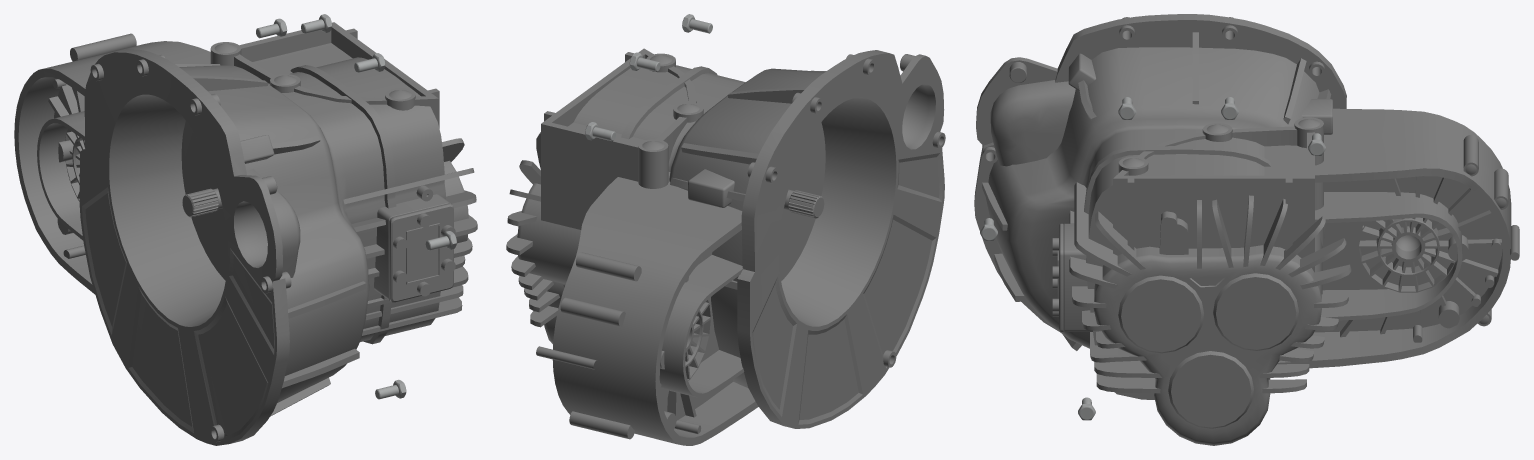
The model's file is fwdTran.glb.
3 renders of one model, left to right at view 1: azimuth 30°, elevation 25°; view 2: azimuth 150°, elevation 25°; view 3: azimuth 270°, elevation 25°, orthographic. The views are drawn at different scales.
Parts seen in each view (by area): view 1: r4_gearbox_short(0); view 2: r4_gearbox_short(0); view 3: r4_gearbox_short(0).
Boxes of the visible parts, x1=… form: r4_gearbox_short(0): x1=14, y1=22, x2=477, y2=445; r4_gearbox_short(0): x1=506, y1=48, x2=945, y2=445; r4_gearbox_short(0): x1=974, y1=14, x2=1519, y2=445.
Bounding box in the file's own units: 0.00529 × 0.00662 × 0.00973.
Materials: 2 (1 with a texture image).
